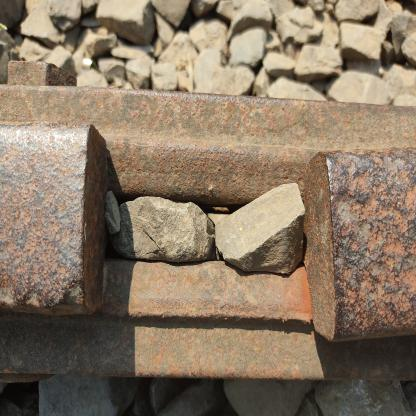Defective 2: (20, 89, 381, 374)
